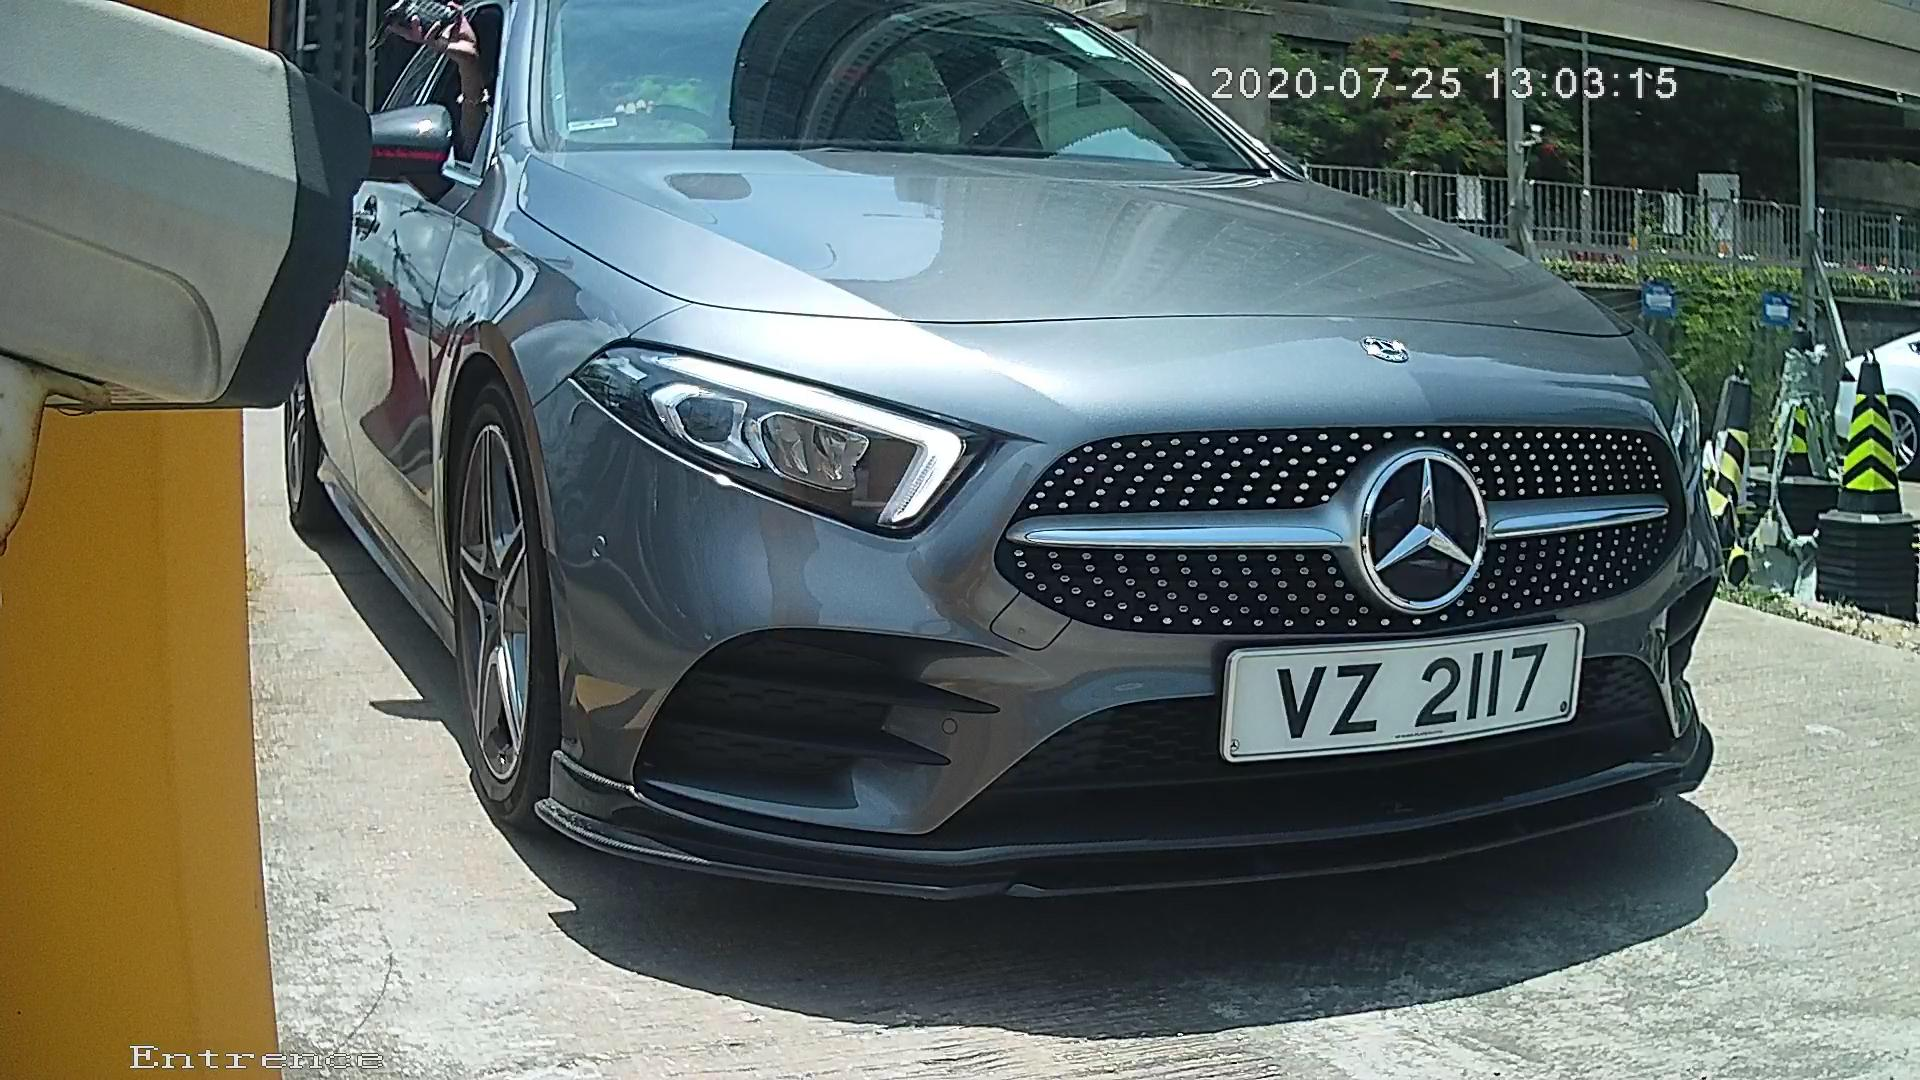License Plate: (1201, 622, 1586, 772)
